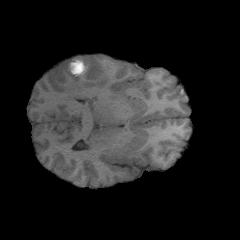glioma: (50, 57, 106, 98)
